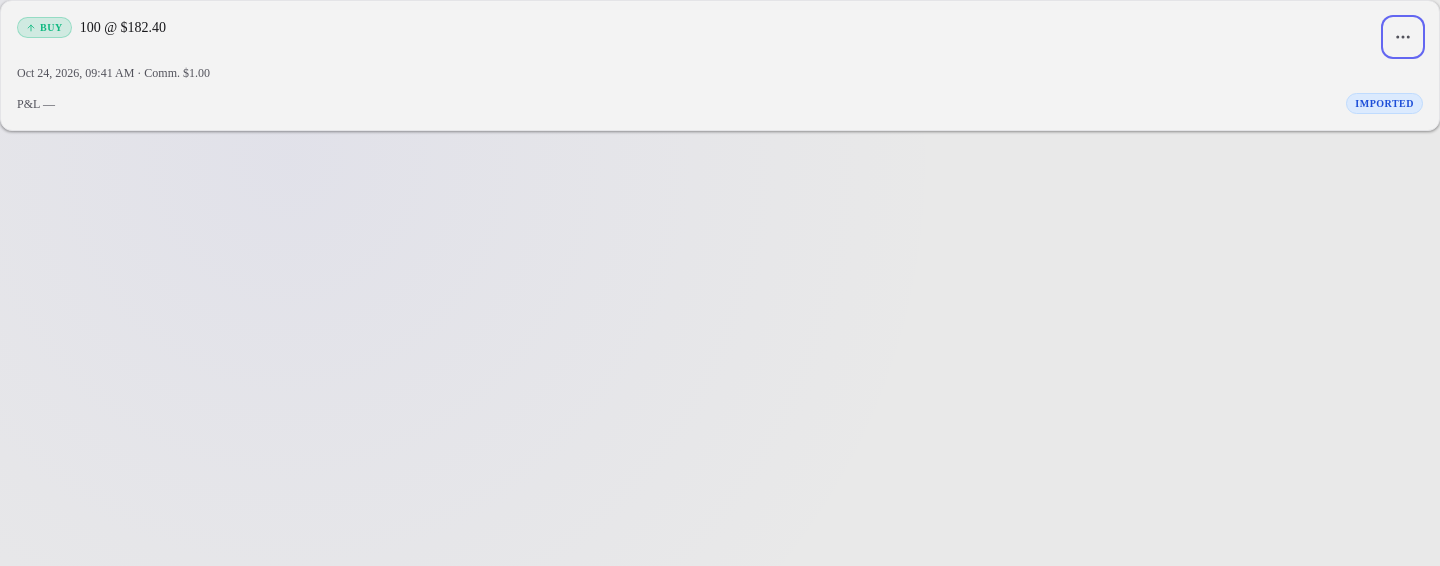
Test: ExecutionLegCard editing › rejects invalid Quantity without sending a mutation
The width and height of the screenshot is (1440, 566).
Press Enter
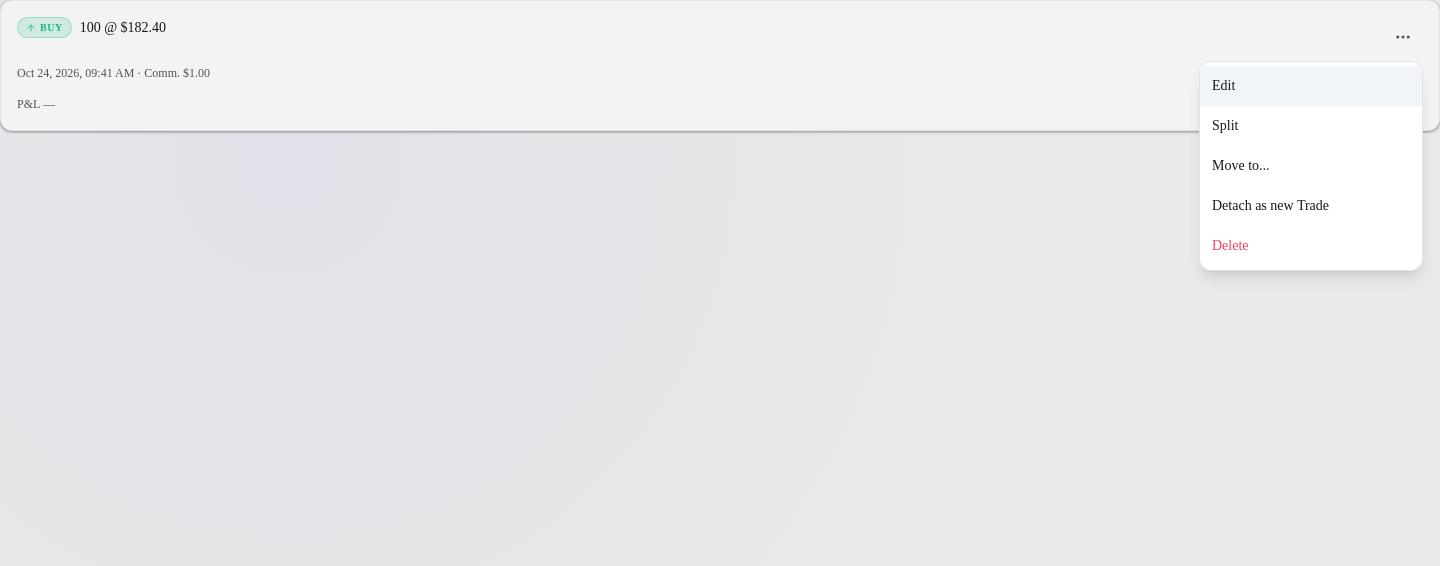
Click the menu item "Edit".
click(1311, 86)  # box [1200,66,1422,106]
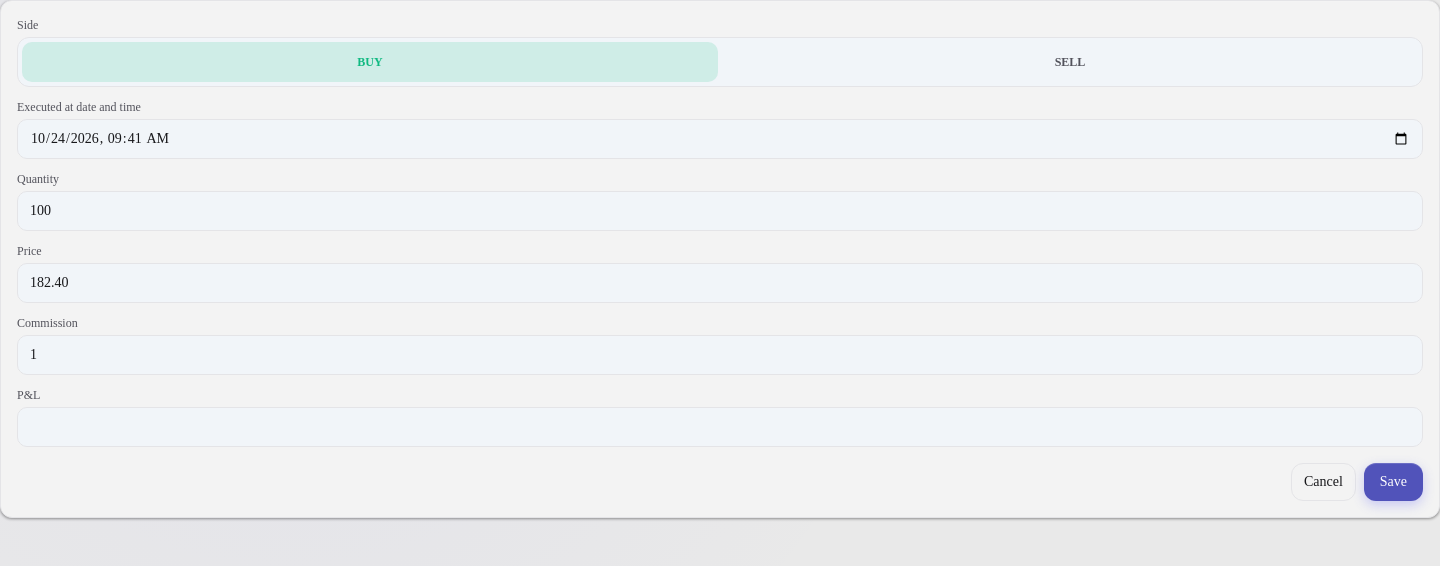
Replace the text in the number field labelled "Quantity" with "0" at (720, 211), box [17,191,1423,231]
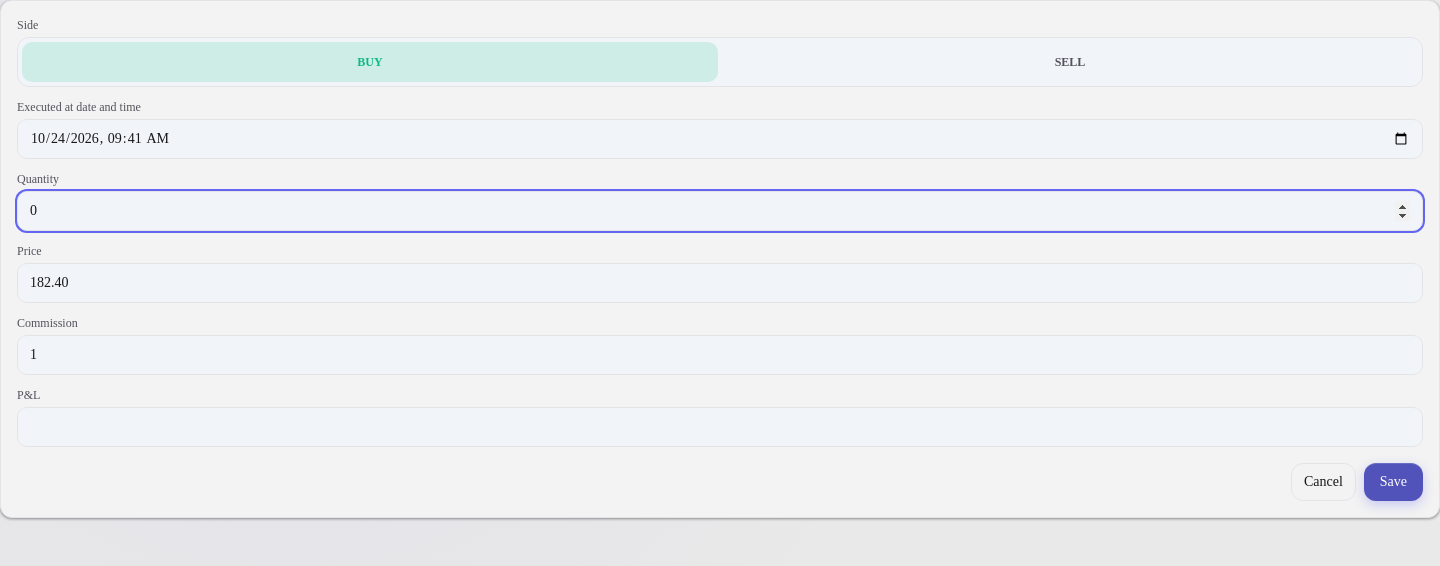
Click the button "Save".
click(1393, 482)  # box [1364,463,1423,501]
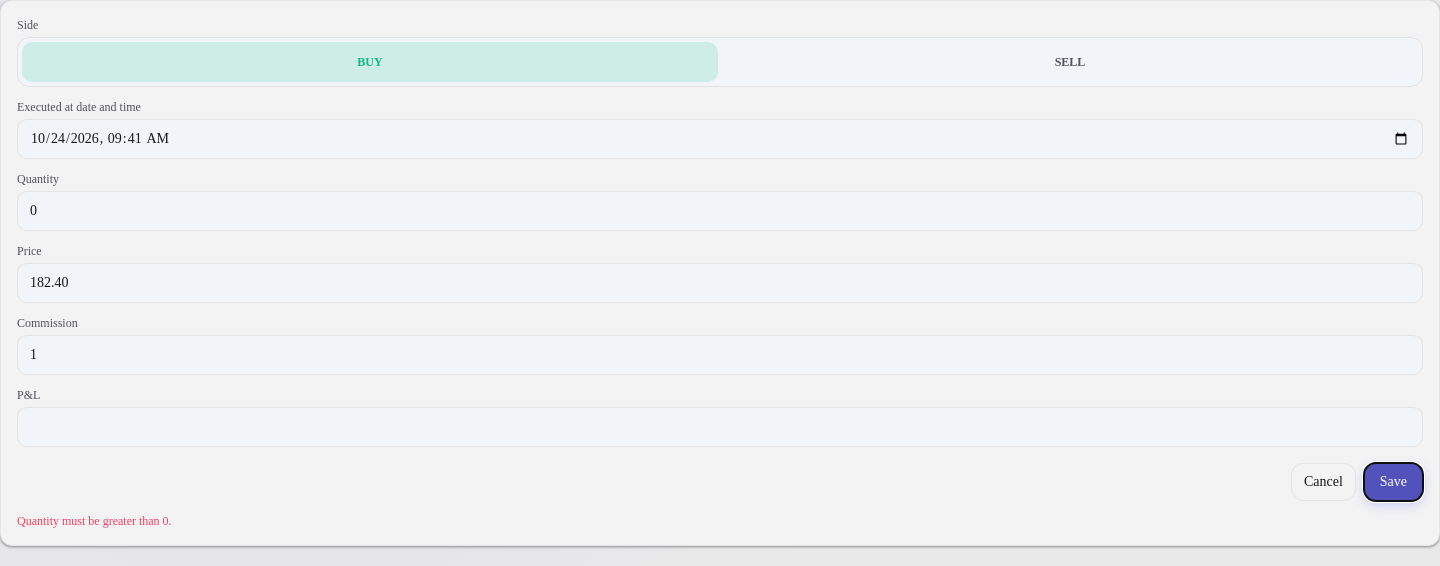
Expected: the form named "Edit execution" is shown
Expected: the message reads "Quantity must be greater than 0.", [17,514,172,528]
